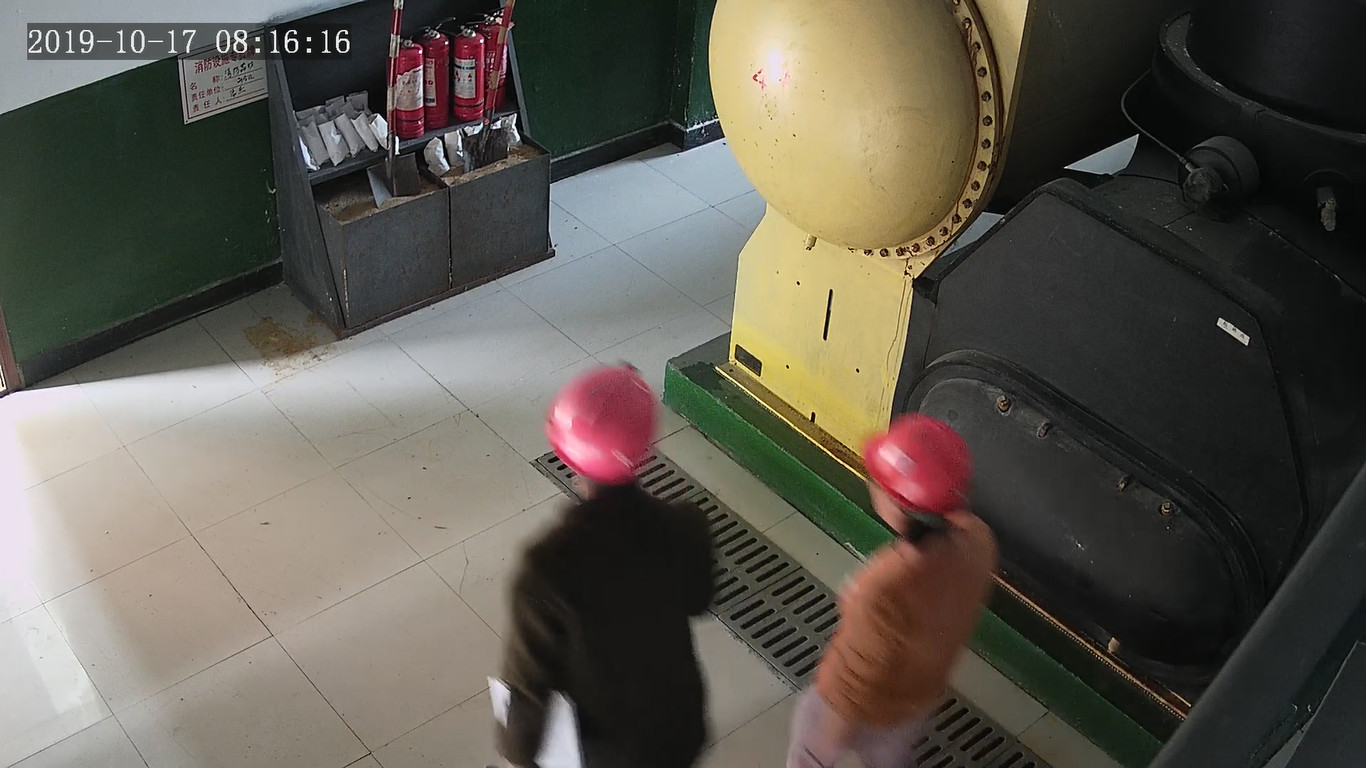helmet: (545, 360, 656, 484), (862, 412, 975, 514)
